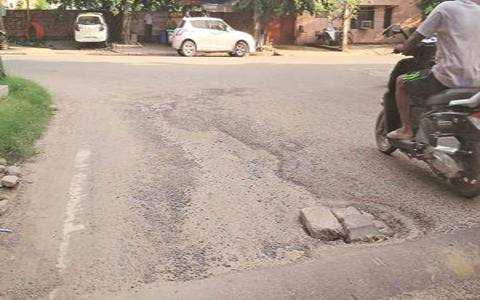patchy roads: (148, 69, 293, 199), (308, 177, 429, 300)
